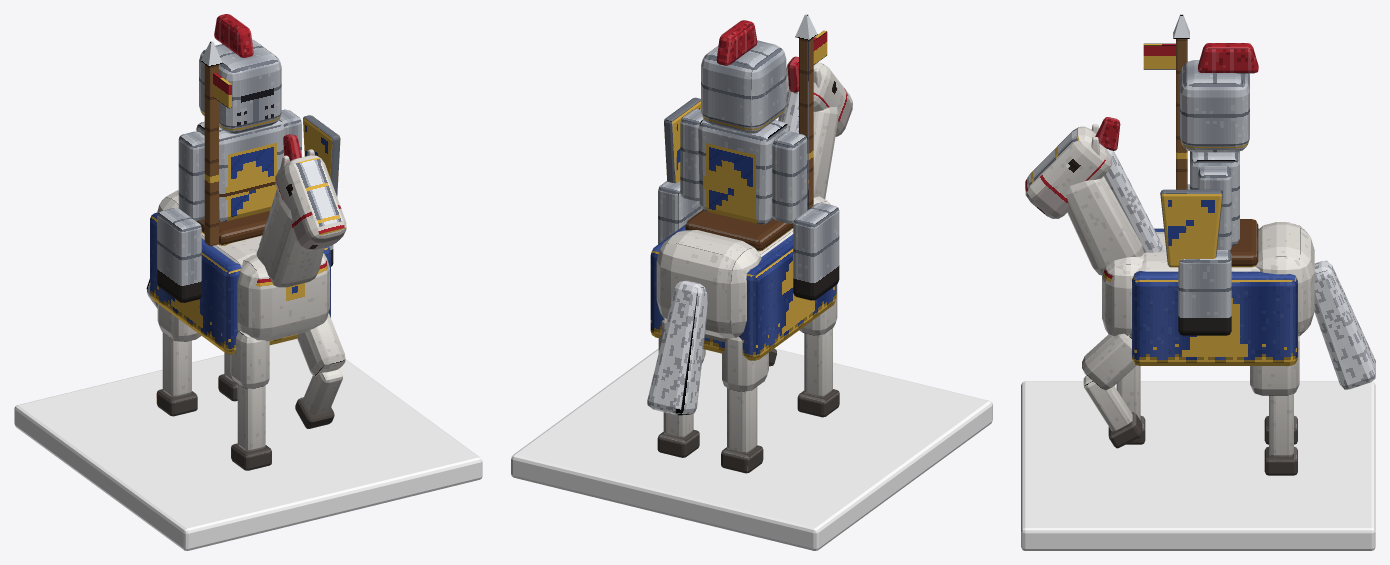
The model's file is knight.glb.
3 renders of one model, left to right at view 1: azimuth 30°, elevation 25°; view 2: azimuth 150°, elevation 25°; view 3: azimuth 270°, elevation 25°, orthographic. The views are drawn at different scales.
Visible parts, largest first — view 1: knight; view 2: knight; view 3: knight.
Boxes of the visible parts, box(x1,y1,x2,y2) form: knight: box(14, 14, 482, 550); knight: box(511, 14, 992, 550); knight: box(1021, 14, 1375, 550).
Size of the model in its own units: 0.875 by 1.2 by 0.8756.
2 materials, 1 textured.
